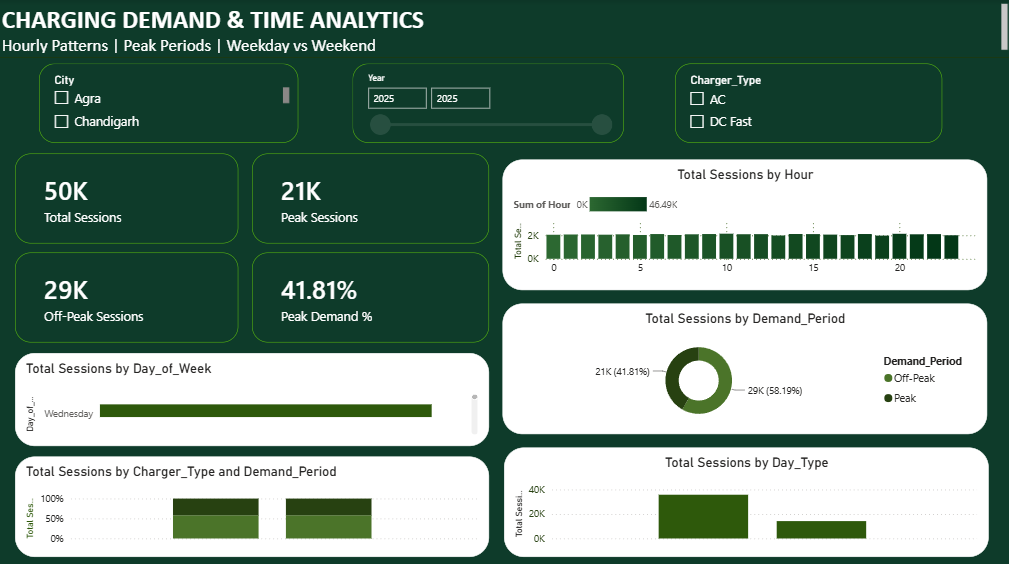

The dashboard page shown, as its layout file describes it:
{"tool":"powerbi","page":{"name":"Demand Intelligence","canvas":[1280,720],"ordinal":2},"visuals":[{"type":"textbox","box":[0,0,1279.4,73.7],"z":0},{"type":"cardVisual","fields":{"Data":["ev_charging_sessions_engineered.Off-Peak Sessions"]},"box":[22.7,319.4,281.6,113.4],"z":1000},{"type":"cardVisual","fields":{"Data":["ev_charging_sessions_engineered.Peak Sessions"]},"box":[321.3,194.6,298.6,113.4],"z":2000},{"type":"cardVisual","fields":{"Data":["ev_charging_sessions_engineered.Peak Demand %"]},"box":[321.3,319.4,298.6,113.4],"z":3000},{"type":"cardVisual","fields":{"Data":["ev_charging_sessions_engineered.Total Sessions"]},"box":[22.7,194.6,281.6,113.4],"z":4000},{"type":"slicer","fields":{"Values":["ev_charging_sessions_engineered.Charger_Type"]},"box":[854.2,81.3,336.4,100.2],"z":5000},{"type":"slicer","fields":{"Values":["Calendar.Year"]},"box":[447.9,81.3,342,100.2],"z":6000},{"type":"slicer","fields":{"Values":["ev_charging_sessions_engineered.City"]},"box":[52.9,81.3,326.9,100.2],"z":7000},{"type":"clusteredColumnChart","fields":{"Category":["ev_charging_sessions_engineered.Hour"],"Y":["ev_charging_sessions_engineered.Total Sessions"]},"box":[636.9,202.2,610.4,164.4],"z":8000},{"type":"donutChart","fields":{"Category":["ev_charging_sessions_engineered.Demand_Period"],"Y":["ev_charging_sessions_engineered.Total Sessions"]},"box":[636.9,383.6,610.4,164.4],"z":9000},{"type":"clusteredColumnChart","fields":{"Category":["ev_charging_sessions_engineered.Day_Type"],"Y":["ev_charging_sessions_engineered.Total Sessions"]},"box":[638.7,565,610.4,138],"z":10000},{"type":"clusteredBarChart","fields":{"Category":["ev_charging_sessions_engineered.Day_of_Week"],"Y":["ev_charging_sessions_engineered.Total Sessions"]},"box":[22.7,446,597.2,117.2],"z":11000},{"type":"hundredPercentStackedColumnChart","fields":{"Category":["ev_charging_sessions_engineered.Charger_Type"],"Y":["ev_charging_sessions_engineered.Total Sessions"],"Series":["ev_charging_sessions_engineered.Demand_Period"]},"box":[22.7,576.4,597.2,126.6],"z":12000}]}

Visuals, with their boxes in screenshot pixels (x1, y1, x2, y2), scaled from the page's 1280x720 canvas onto the 1009x564 screenshot:
textbox: {"left": 0, "top": 0, "right": 1008, "bottom": 58}
cardVisual - ev_charging_sessions_engineered.Off-Peak Sessions: {"left": 18, "top": 250, "right": 240, "bottom": 339}
cardVisual - ev_charging_sessions_engineered.Peak Sessions: {"left": 253, "top": 152, "right": 489, "bottom": 241}
cardVisual - ev_charging_sessions_engineered.Peak Demand %: {"left": 253, "top": 250, "right": 489, "bottom": 339}
cardVisual - ev_charging_sessions_engineered.Total Sessions: {"left": 18, "top": 152, "right": 240, "bottom": 241}
slicer - ev_charging_sessions_engineered.Charger_Type: {"left": 673, "top": 64, "right": 939, "bottom": 142}
slicer - Calendar.Year: {"left": 353, "top": 64, "right": 623, "bottom": 142}
slicer - ev_charging_sessions_engineered.City: {"left": 42, "top": 64, "right": 299, "bottom": 142}
clusteredColumnChart - ev_charging_sessions_engineered.Hour x ev_charging_sessions_engineered.Total Sessions: {"left": 502, "top": 158, "right": 983, "bottom": 287}
donutChart - ev_charging_sessions_engineered.Demand_Period x ev_charging_sessions_engineered.Total Sessions: {"left": 502, "top": 300, "right": 983, "bottom": 429}
clusteredColumnChart - ev_charging_sessions_engineered.Day_Type x ev_charging_sessions_engineered.Total Sessions: {"left": 503, "top": 443, "right": 985, "bottom": 551}
clusteredBarChart - ev_charging_sessions_engineered.Day_of_Week x ev_charging_sessions_engineered.Total Sessions: {"left": 18, "top": 349, "right": 489, "bottom": 441}
hundredPercentStackedColumnChart - ev_charging_sessions_engineered.Charger_Type x ev_charging_sessions_engineered.Total Sessions: {"left": 18, "top": 452, "right": 489, "bottom": 551}
